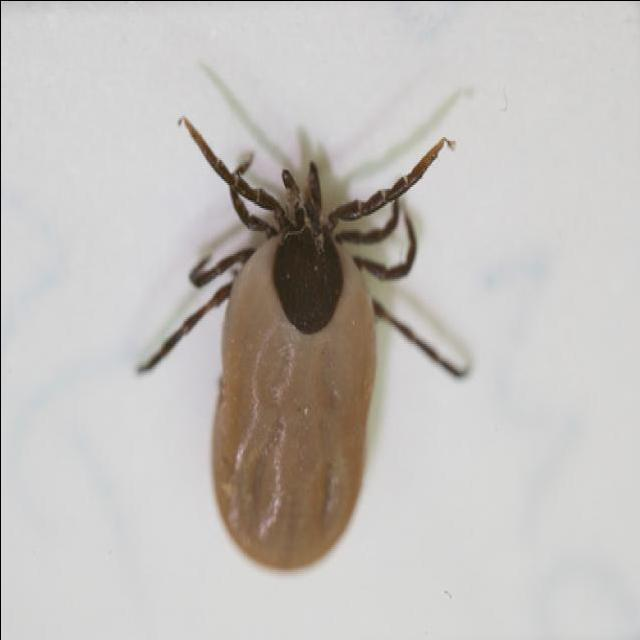Ixodes Ricinus-F-Fed: (134, 119, 472, 575)
